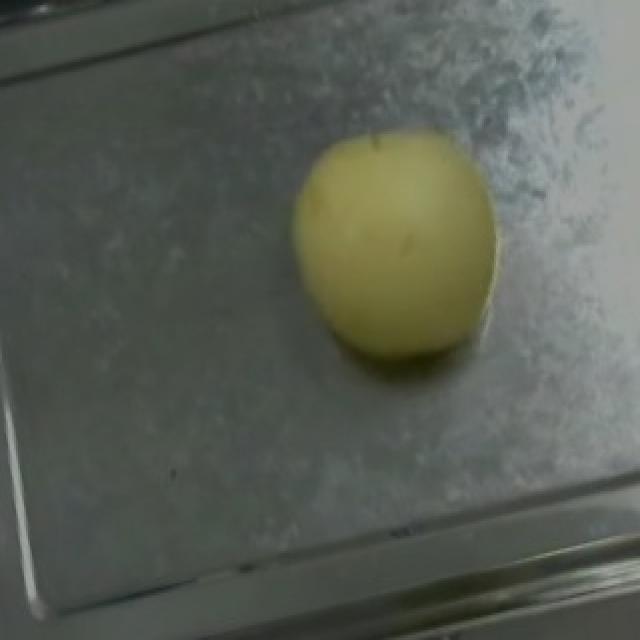Fruit: (250, 89, 538, 402)
